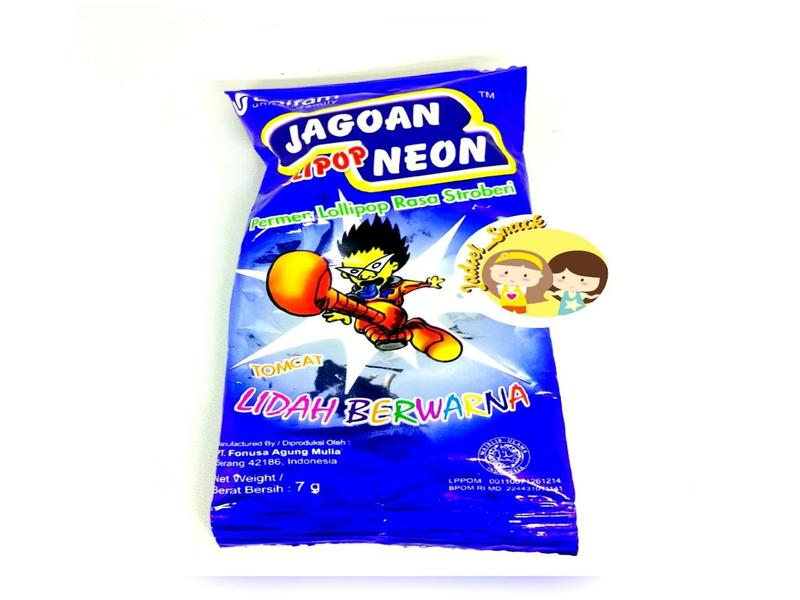jagoan_neon: (210, 66, 580, 554)
